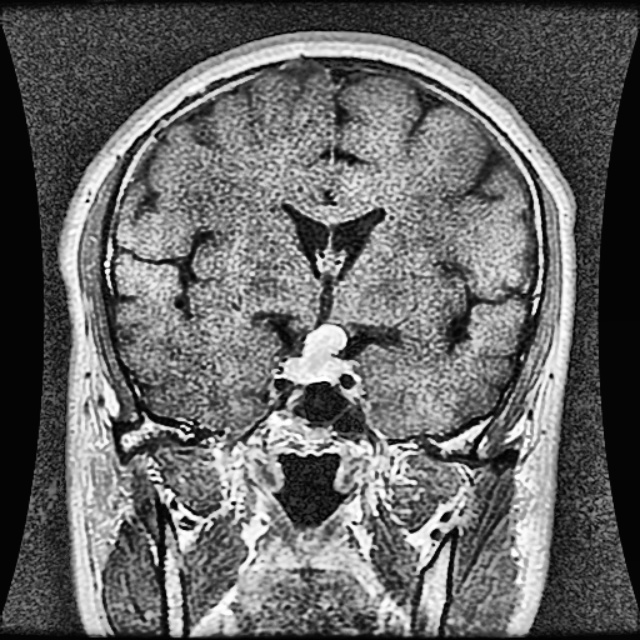Pituitary: (284, 324, 350, 383)
